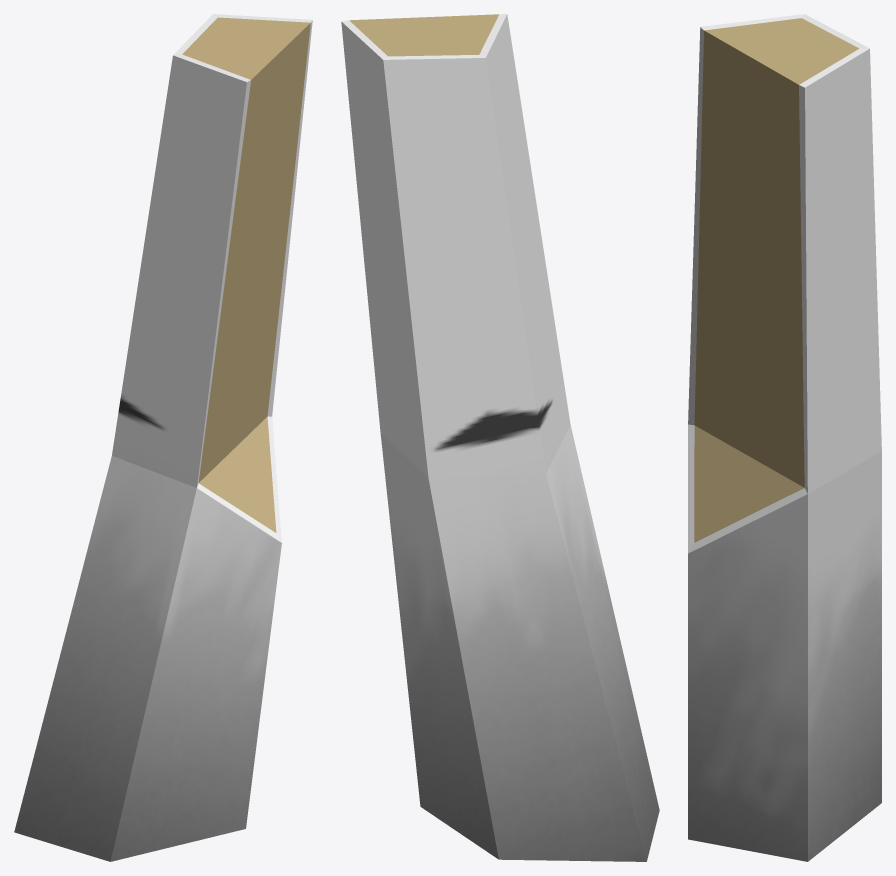
The model's file is Birch_Stump_01.fbx.
The picture shows the model from 3 angles, left to right: view 1: azimuth 30°, elevation 25°; view 2: azimuth 150°, elevation 25°; view 3: azimuth 270°, elevation 25°; orthographic projection. The views are drawn at different scales.
Parts seen in each view (by area): view 1: Birch_Stump_01; view 2: Birch_Stump_01; view 3: Birch_Stump_01.
Boxes of the visible parts, x1,y1,x2,y2 form: Birch_Stump_01: [14, 14, 312, 861]; Birch_Stump_01: [341, 14, 659, 861]; Birch_Stump_01: [688, 14, 881, 861].
Size of the model in its own units: 76.21 by 182 by 39.07.
